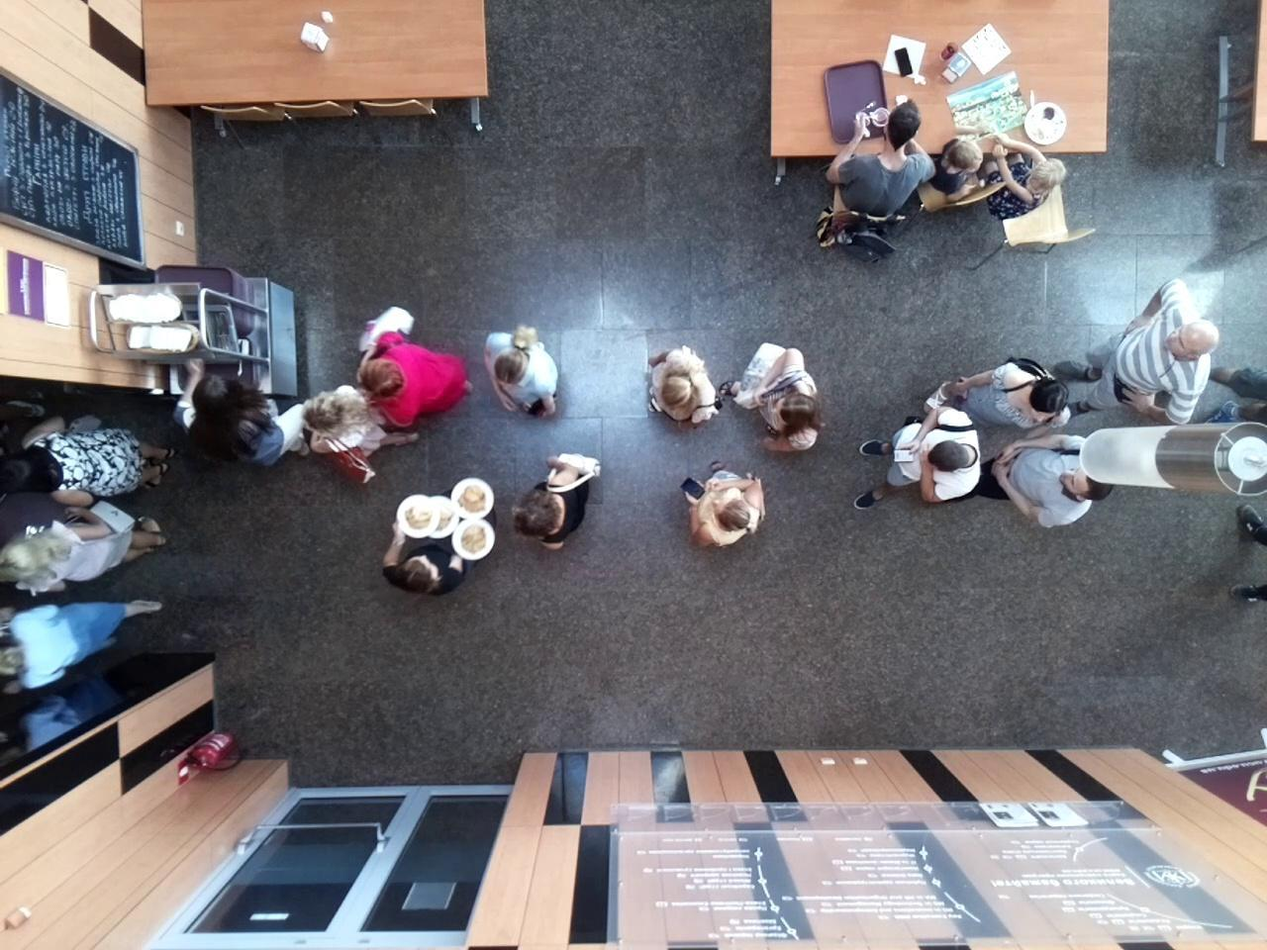person: (8, 408, 188, 515), (385, 472, 506, 629), (815, 77, 927, 224), (937, 453, 1095, 557), (513, 435, 630, 569), (1111, 285, 1228, 417), (867, 406, 978, 538), (953, 340, 1095, 442), (747, 334, 853, 470), (202, 357, 334, 465), (664, 454, 769, 588), (469, 275, 570, 410), (622, 315, 730, 441), (294, 345, 390, 483), (359, 279, 452, 418), (2, 516, 170, 587), (992, 111, 1073, 235), (947, 95, 996, 229)
